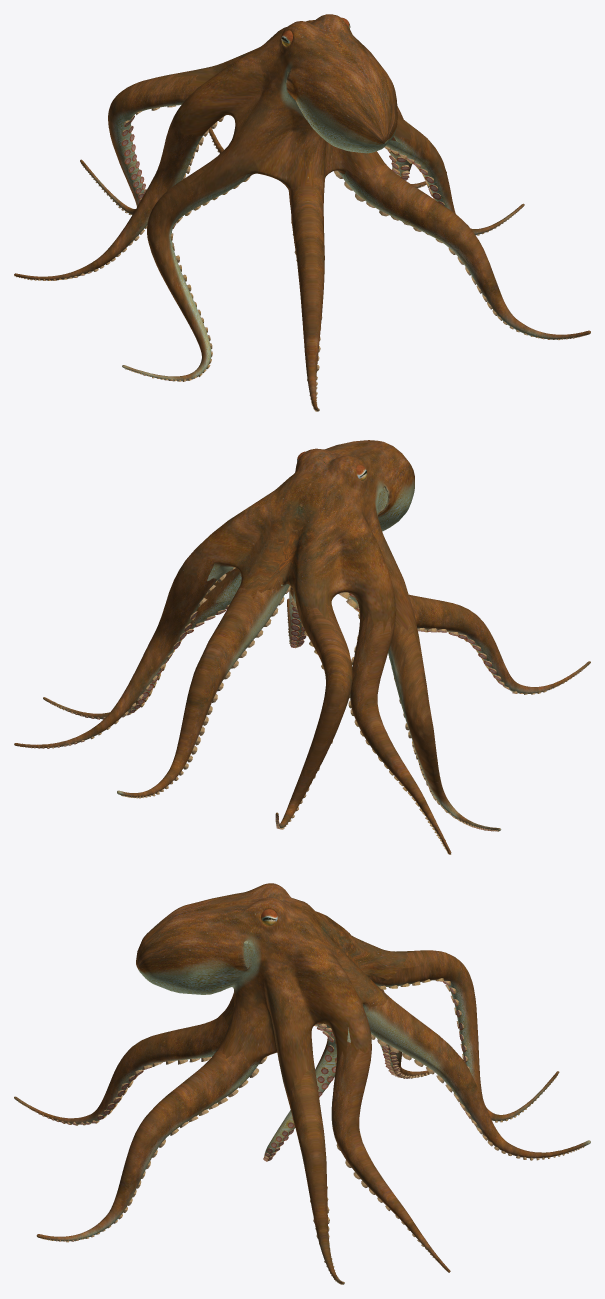
3 views of the same model, one above another, from view 1: azimuth 30°, elevation 25°; view 2: azimuth 150°, elevation 25°; view 3: azimuth 270°, elevation 25° (orthographic). The views are drawn at different scales.
Parts seen in each view (by area): view 1: 3DSMeshMatrix; view 2: 3DSMeshMatrix; view 3: 3DSMeshMatrix.
Boxes of the visible parts, bbox=[...] form: 3DSMeshMatrix: bbox=[14, 14, 590, 411]; 3DSMeshMatrix: bbox=[14, 440, 590, 854]; 3DSMeshMatrix: bbox=[14, 883, 590, 1284].
Bounding box in the file's own units: 7382 × 5124 × 8109.
14 materials, 14 textured.
